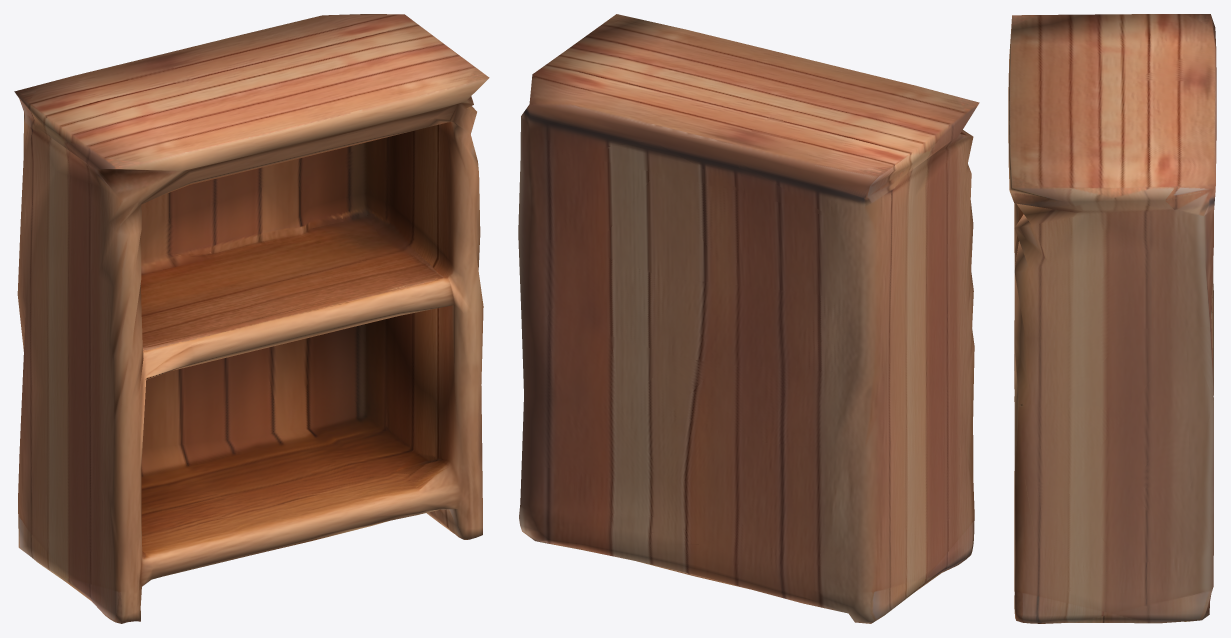
File: WineShelf.fbx
3 views of the same model, side by side, from view 1: azimuth 30°, elevation 25°; view 2: azimuth 150°, elevation 25°; view 3: azimuth 270°, elevation 25° (orthographic). The views are drawn at different scales.
Visible parts, largest first — view 1: input; view 2: input; view 3: input.
Boxes of the visible parts, x1,y1,x2,y2 form: input: (14, 14, 489, 623); input: (518, 14, 979, 623); input: (1008, 14, 1216, 623).
Size of the model in its own units: 162 by 191 by 81.75.
1 material, 1 textured.
